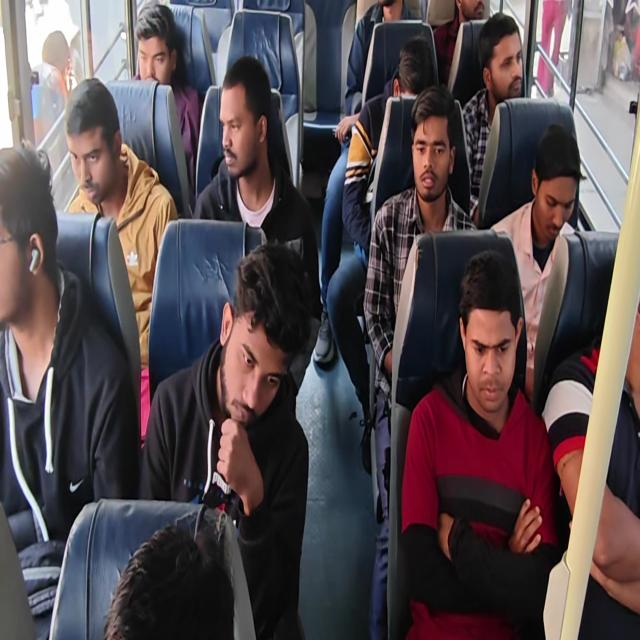person: (104, 513, 249, 640), (446, 247, 531, 434), (227, 238, 307, 436), (0, 139, 64, 346), (63, 68, 126, 218), (402, 91, 462, 225), (527, 134, 592, 244), (214, 71, 273, 191), (480, 13, 536, 104), (127, 4, 184, 84), (389, 26, 442, 104), (615, 218, 640, 371), (455, 0, 497, 21), (380, 0, 410, 23), (616, 239, 622, 252), (40, 27, 41, 28)
